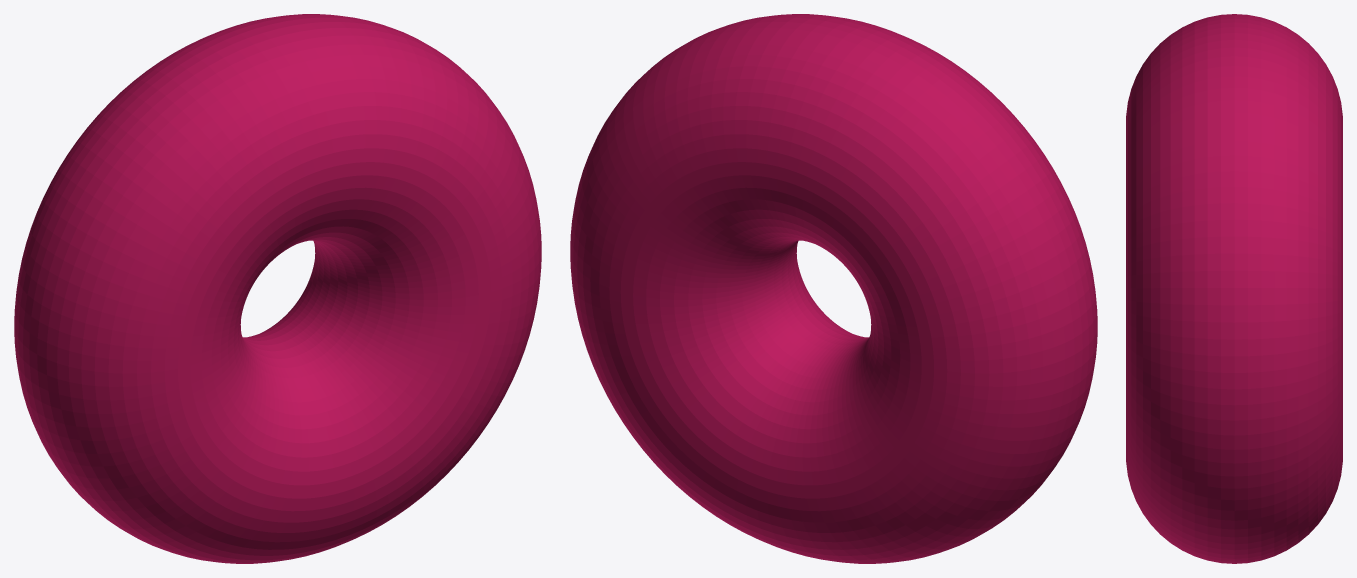
3 renders of one model, left to right at view 1: azimuth 30°, elevation 25°; view 2: azimuth 150°, elevation 25°; view 3: azimuth 270°, elevation 25°, orthographic. The views are drawn at different scales.
Parts seen in each view (by area): view 1: world; view 2: world; view 3: world.
Part boxes in pixels (x1,y1,x2,y2): world: (14,14,541,563); world: (570,14,1097,563); world: (1126,14,1342,563).
Bounding box in the file's own units: 25.33 × 25.33 × 9.98.
